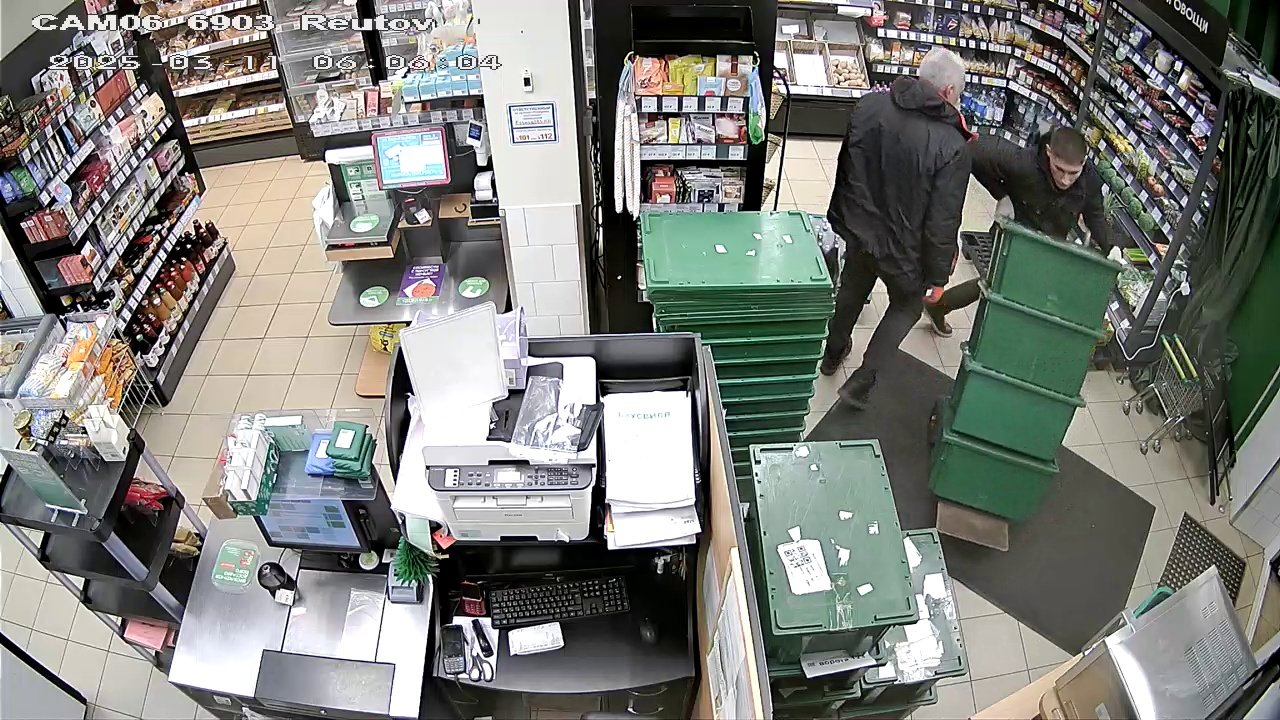Human: (819, 15, 967, 398), (970, 100, 1113, 248)
